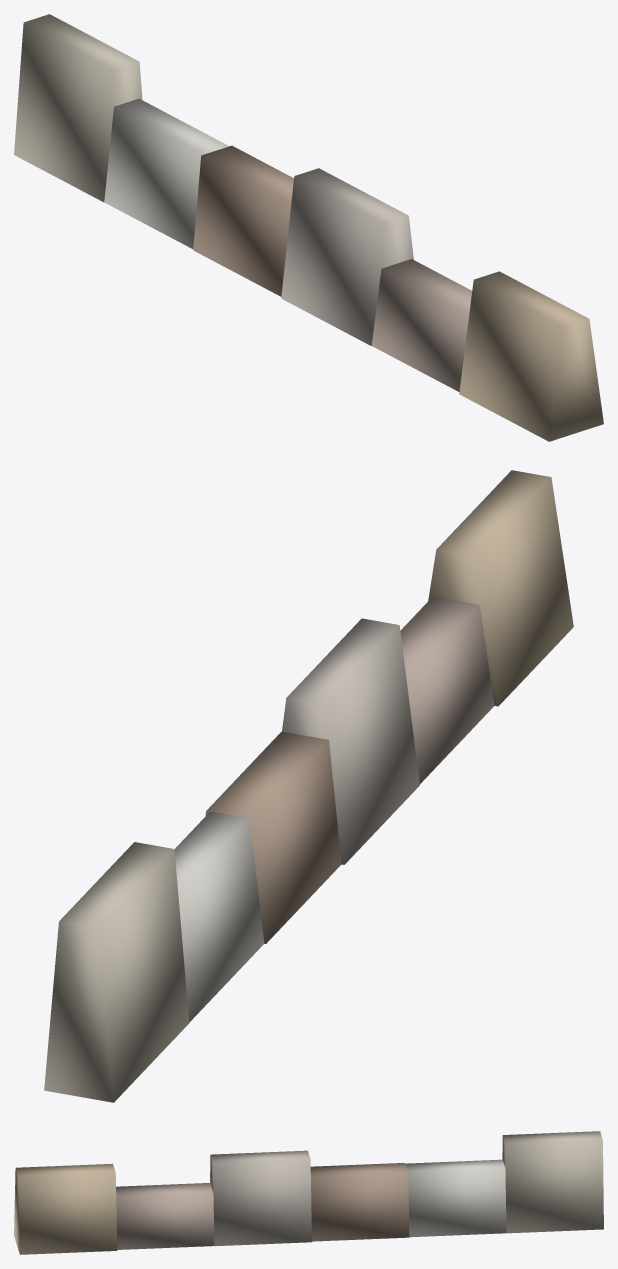
File: farm_-25_-32_collision.glb
3 renders of one model, top to bottom at view 1: azimuth 30°, elevation 25°; view 2: azimuth 150°, elevation 25°; view 3: azimuth 270°, elevation 25°, orthographic. The views are drawn at different scales.
Visible parts, largest first — view 1: geometry_0; view 2: geometry_0; view 3: geometry_0.
Part boxes in pixels (x1=…): geometry_0: x1=14, y1=14, x2=603, y2=441; geometry_0: x1=44, y1=470, x2=573, y2=1102; geometry_0: x1=14, y1=1131, x2=603, y2=1254.
Bounding box in the file's own units: 1.9 × 1.56 × 9.53.
